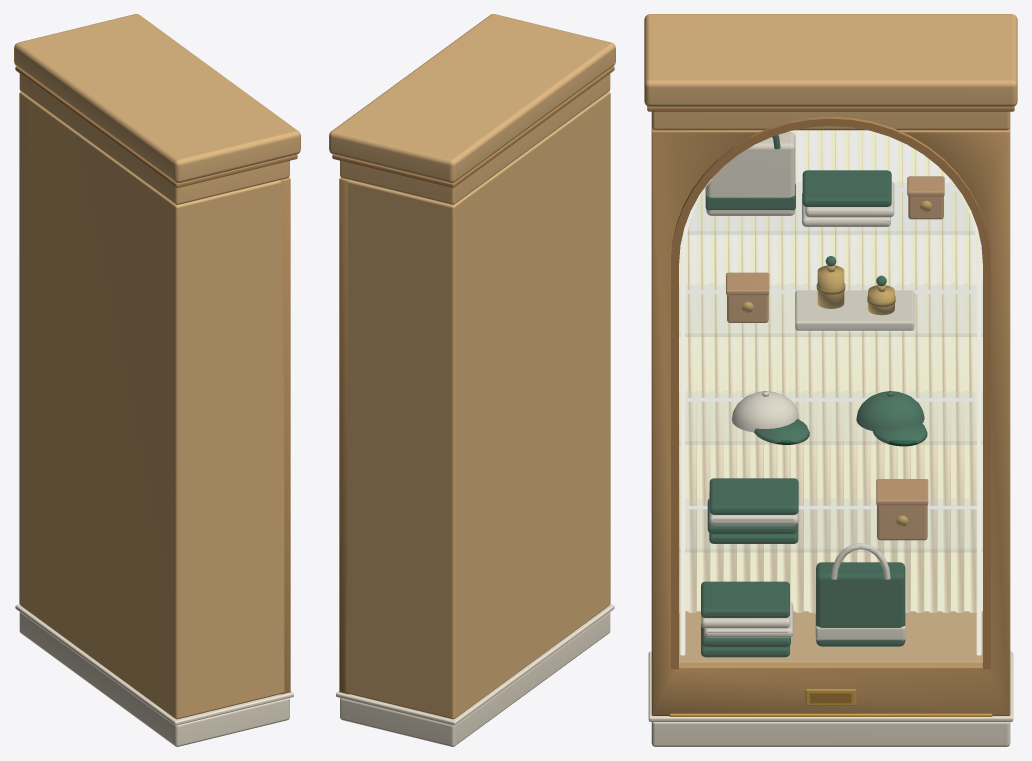
Rendered from merch_cabinet.glb.
The picture shows the model from 3 angles, left to right: view 1: azimuth 30°, elevation 25°; view 2: azimuth 150°, elevation 25°; view 3: azimuth 270°, elevation 25°; orthographic projection. The views are drawn at different scales.
Visible parts, largest first — view 1: Back, Side-1, Cornice, Plinth, Top, FaceFrame, PlinthLip, Side1, CorniceBand; view 2: Back, Side1, Cornice, Plinth, Top, FaceFrame, Side-1, PlinthLip, CorniceBand; view 3: CabinetGlass, FaceFrame, Cornice, RibBack, ArchMould, Shelf1, Shelf0, Plinth, Shelf2, Floor, ToteA, Top (+56 smaller).
Boxes of the visible parts, box(x1,y1,x2,y2) form: Back: box(20, 92, 175, 718); Side-1: box(168, 180, 284, 719); Cornice: box(14, 14, 300, 183); Plinth: box(19, 612, 289, 746); Top: box(19, 73, 289, 204); FaceFrame: box(280, 177, 290, 694); PlinthLip: box(15, 604, 293, 725); Side1: box(19, 91, 26, 604); CorniceBand: box(15, 66, 297, 187); Back: box(454, 92, 609, 718); Side1: box(345, 180, 461, 719); Cornice: box(329, 14, 615, 183); Plinth: box(340, 612, 610, 746); Top: box(340, 73, 610, 204); FaceFrame: box(339, 177, 349, 694); Side-1: box(603, 91, 610, 607); PlinthLip: box(336, 604, 614, 725); CorniceBand: box(332, 66, 614, 187); CabinetGlass: box(679, 130, 982, 663); FaceFrame: box(651, 127, 1010, 715); Cornice: box(644, 14, 1017, 107); RibBack: box(685, 130, 982, 611); ArchMould: box(671, 116, 990, 669); Shelf1: box(679, 391, 982, 443); Shelf0: box(679, 499, 982, 551); Plinth: box(651, 722, 1010, 746); Shelf2: box(679, 284, 982, 336); Floor: box(679, 611, 982, 662); ToteA: box(816, 562, 905, 646); Top: box(651, 111, 1010, 130).
Bounding box in the file's own units: 0.559 × 2.49 × 1.26.
